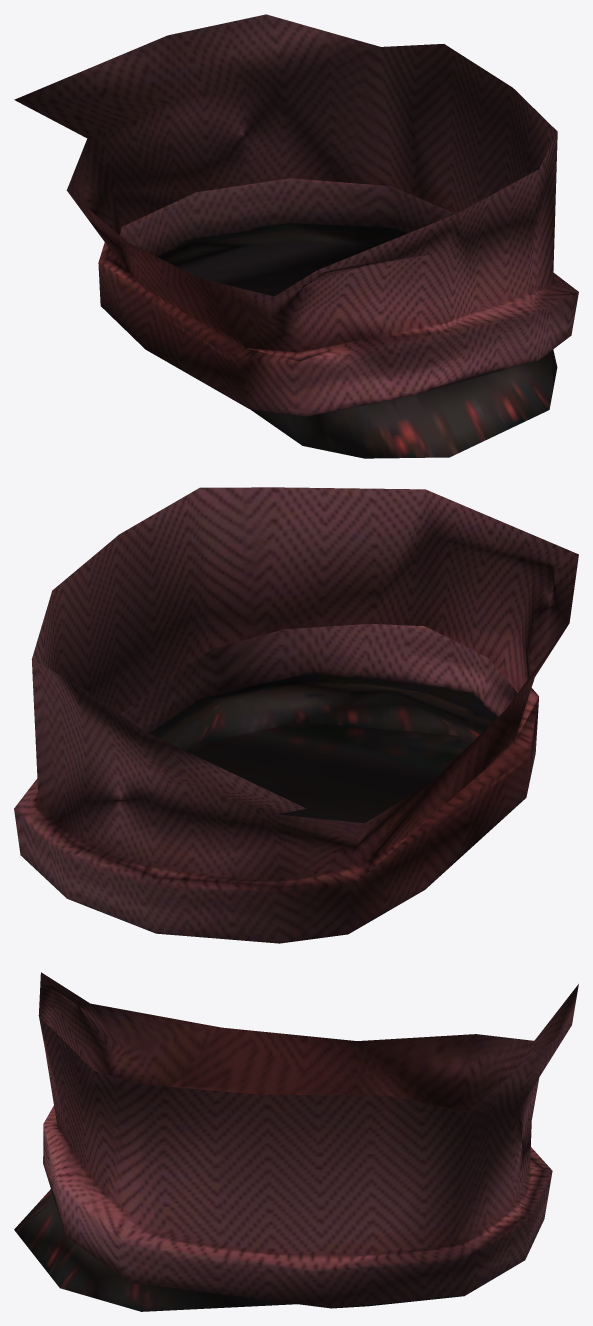
The model's file is PiernaIzq_F.obj.
3 views of the same model, one above another, from view 1: azimuth 30°, elevation 25°; view 2: azimuth 150°, elevation 25°; view 3: azimuth 270°, elevation 25° (orthographic). The views are drawn at different scales.
Visible parts, largest first — view 1: PiernaIzq_F; view 2: PiernaIzq_F; view 3: PiernaIzq_F.
Boxes of the visible parts, x1,y1,x2,y2 form: PiernaIzq_F: [14, 14, 578, 458]; PiernaIzq_F: [14, 487, 578, 943]; PiernaIzq_F: [14, 972, 578, 1311].
Bounding box in the file's own units: 0.2901 × 0.1834 × 0.4095.
